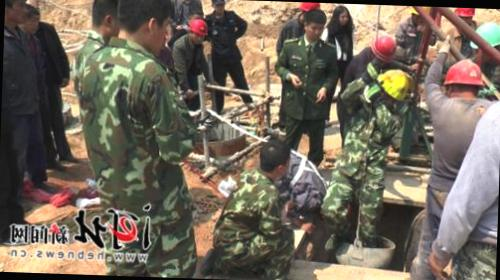no_helmet: (115, 0, 175, 53), (252, 132, 292, 178), (87, 0, 120, 40), (18, 0, 40, 36), (300, 8, 326, 38), (5, 0, 28, 27), (332, 3, 351, 28)
